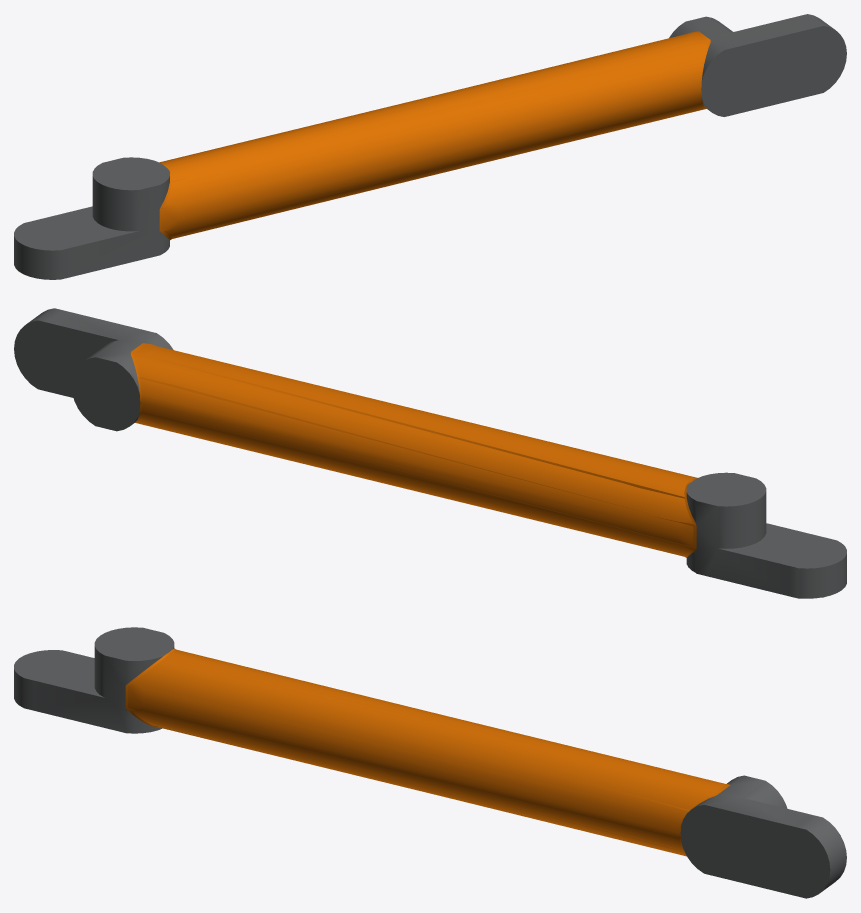
3 views of the same model, one above another, from view 1: azimuth 30°, elevation 25°; view 2: azimuth 150°, elevation 25°; view 3: azimuth 330°, elevation 25° (orthographic). The views are drawn at different scales.
Parts seen in each view (by area): view 1: i3_LOD0, i3_col; view 2: i3_LOD0, i3_col; view 3: i3_LOD0, i3_col.
Boxes of the visible parts, x1,y1,x2,y2 form: i3_LOD0: [14, 14, 846, 279]; i3_col: [160, 14, 845, 238]; i3_LOD0: [14, 308, 846, 598]; i3_col: [14, 308, 824, 598]; i3_LOD0: [14, 627, 846, 898]; i3_col: [126, 651, 830, 897].
Size of what is drawn, in the model's own units: 144 by 12.04 by 12.
